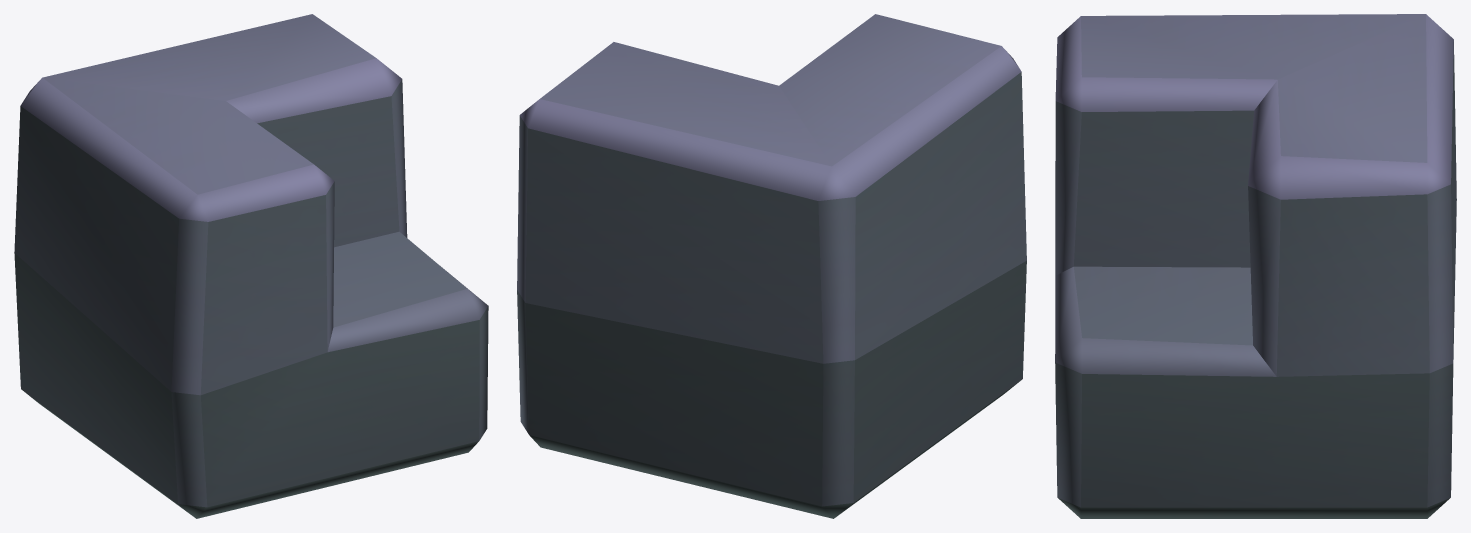
File: undead_stair_corner_conc_shade_2.fbx
The picture shows the model from 3 angles, left to right: view 1: azimuth 30°, elevation 25°; view 2: azimuth 150°, elevation 25°; view 3: azimuth 270°, elevation 25°; orthographic projection. The views are drawn at different scales.
Visible parts, largest first — view 1: undead_stair_corner_conc_shade_2; view 2: undead_stair_corner_conc_shade_2; view 3: undead_stair_corner_conc_shade_2.
Part boxes in pixels (x1,y1,x2,y2): undead_stair_corner_conc_shade_2: [14, 14, 488, 518]; undead_stair_corner_conc_shade_2: [517, 14, 1026, 518]; undead_stair_corner_conc_shade_2: [1055, 14, 1456, 518].
Size of the model in its own units: 0.5226 by 0.5074 by 0.5102.
